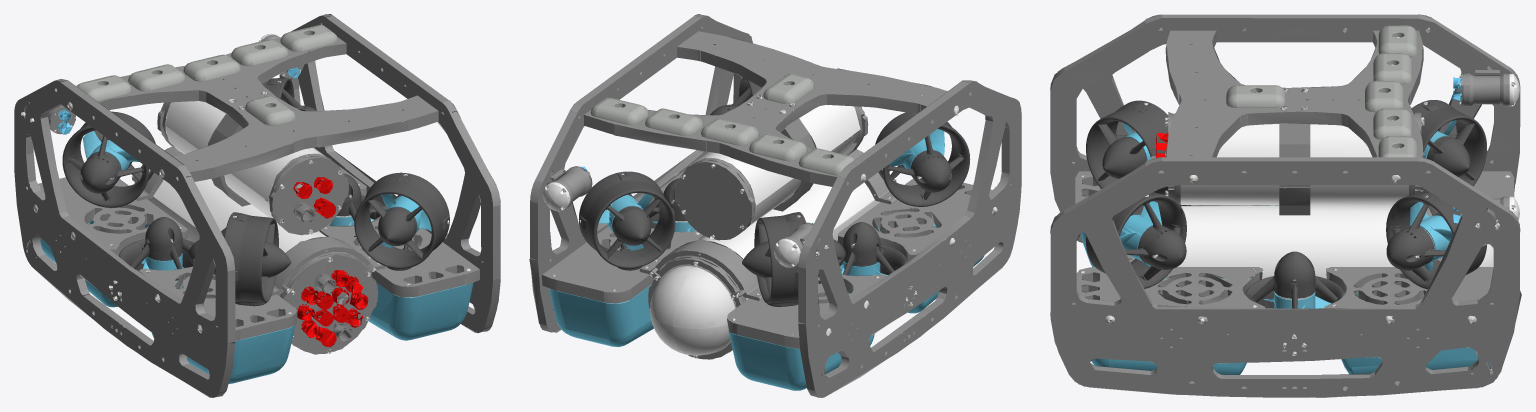
Rendered from BROV2-reduced.dae.
3 renders of one model, left to right at view 1: azimuth 30°, elevation 25°; view 2: azimuth 150°, elevation 25°; view 3: azimuth 270°, elevation 25°, orthographic. The views are drawn at different scales.
Visible parts, largest first — view 1: Untitled_283, Untitled_499, Untitled_282, Untitled_216, Untitled_107, Untitled_217, Untitled_451, Untitled_011, Untitled_360, Untitled_403, Untitled_405, Untitled_450 (+21 smaller); view 2: Untitled_283, Untitled_499, Untitled_282, Untitled_354, Untitled_117, Untitled_468, Untitled_404, Untitled_107, Untitled_450, Untitled_012, Untitled_405, Untitled_365 (+23 smaller); view 3: Untitled_282, Untitled_283, Untitled_499, Untitled_098, Untitled_107, Untitled_451, Untitled_217, Untitled_404, Untitled_365, Untitled_117, Untitled_216, Untitled_423 (+22 smaller).
Boxes of the visible parts, box(x1,y1,x2,y2) form: Untitled_283: box(14, 79, 235, 397); Untitled_499: box(98, 37, 438, 181); Untitled_282: box(279, 14, 500, 333); Untitled_216: box(354, 172, 449, 270); Untitled_107: box(165, 101, 323, 224); Untitled_217: box(224, 212, 291, 306); Untitled_451: box(319, 216, 479, 297); Untitled_011: box(359, 235, 473, 340); Untitled_360: box(283, 253, 378, 354); Untitled_403: box(269, 156, 348, 235); Untitled_405: box(26, 177, 187, 256); Untitled_450: box(139, 266, 297, 340); Untitled_283: box(798, 80, 1021, 397); Untitled_499: box(584, 31, 947, 186); Untitled_282: box(529, 14, 752, 332); Untitled_354: box(650, 264, 736, 355); Untitled_117: box(579, 171, 675, 270); Untitled_468: box(674, 160, 754, 240); Untitled_404: box(542, 226, 704, 303); Untitled_107: box(691, 105, 861, 231); Untitled_450: box(837, 179, 992, 262); Untitled_012: box(549, 244, 667, 347); Untitled_405: box(727, 274, 885, 348); Untitled_365: box(742, 212, 805, 306); Untitled_282: box(1050, 157, 1521, 397); Untitled_283: box(1050, 14, 1520, 242); Untitled_499: box(1165, 30, 1423, 157); Untitled_098: box(1165, 205, 1394, 279); Untitled_107: box(1180, 124, 1408, 205); Untitled_451: box(1076, 267, 1265, 308); Untitled_217: box(1086, 100, 1168, 194); Untitled_404: box(1324, 267, 1493, 308); Untitled_365: box(1411, 100, 1486, 190); Untitled_117: box(1386, 190, 1486, 289); Untitled_216: box(1086, 192, 1186, 288); Untitled_423: box(1463, 73, 1509, 106).
Size of the model in its own units: 0.3451 by 0.4591 by 0.2552.
